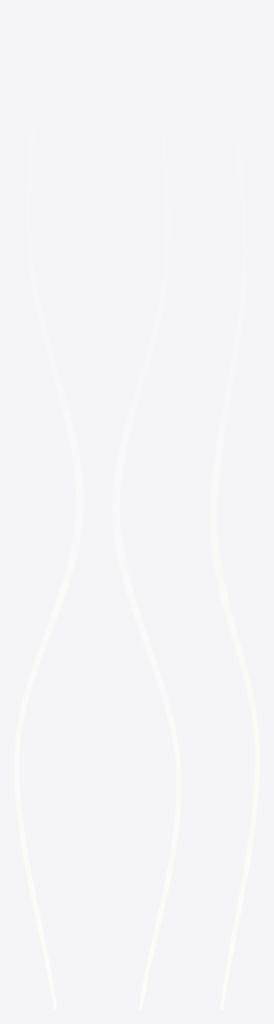
Rendered from strand_e_cairn.glb.
The picture shows the model from 3 angles, left to right: view 1: azimuth 30°, elevation 25°; view 2: azimuth 210°, elevation 25°; view 3: azimuth 270°, elevation 25°; orthographic projection.
Size of the model in its own units: 0.3492 by 7 by 0.3202.
